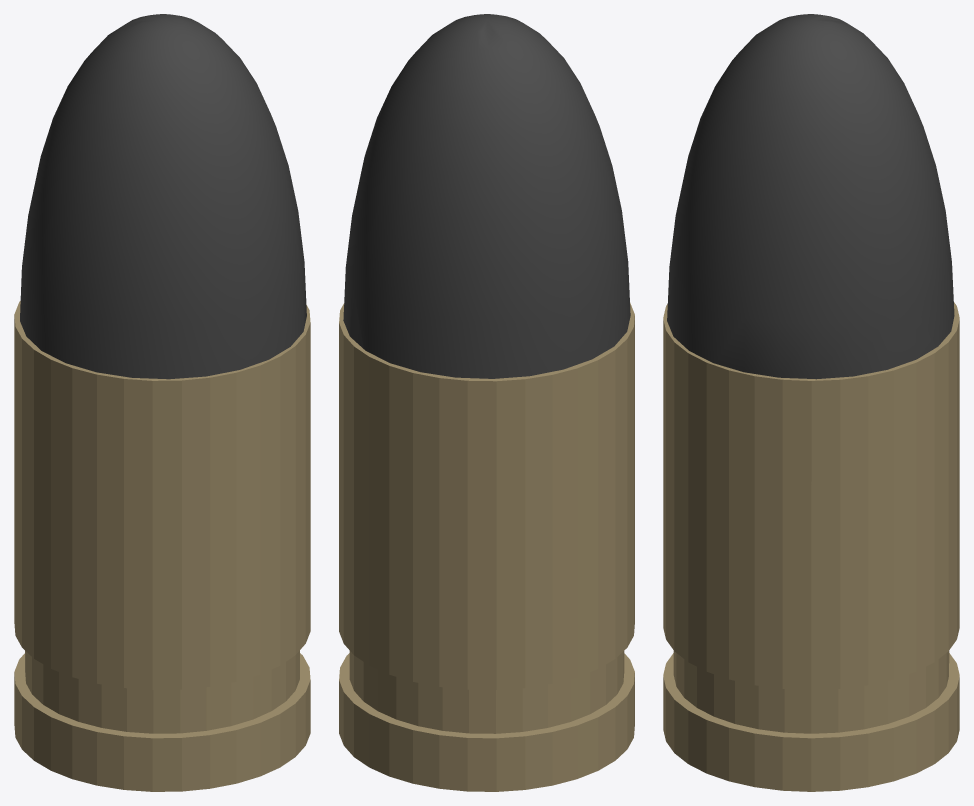
Rendered from Ammunition.fbx.
3 views of the same model, side by side, from view 1: azimuth 30°, elevation 25°; view 2: azimuth 150°, elevation 25°; view 3: azimuth 270°, elevation 25° (orthographic).
Parts seen in each view (by area): view 1: Cylinder, instance_0, Cylinder.001, Cylinder.002; view 2: Cylinder, instance_0, Cylinder.001, Cylinder.002; view 3: Cylinder, instance_0, Cylinder.001, Cylinder.002.
Part boxes in pixels (x1=…): Cylinder: x1=14, y1=301, x2=310, y2=689; instance_0: x1=20, y1=14, x2=306, y2=379; Cylinder.001: x1=14, y1=653, x2=310, y2=791; Cylinder.002: x1=25, y1=650, x2=299, y2=733; Cylinder: x1=339, y1=302, x2=634, y2=689; instance_0: x1=343, y1=14, x2=630, y2=378; Cylinder.001: x1=339, y1=653, x2=634, y2=791; Cylinder.002: x1=349, y1=651, x2=624, y2=733; Cylinder: x1=663, y1=302, x2=959, y2=689; instance_0: x1=667, y1=14, x2=954, y2=379; Cylinder.001: x1=663, y1=653, x2=959, y2=791; Cylinder.002: x1=673, y1=650, x2=949, y2=733.
Bounding box in the file's own units: 104 × 274 × 104.
